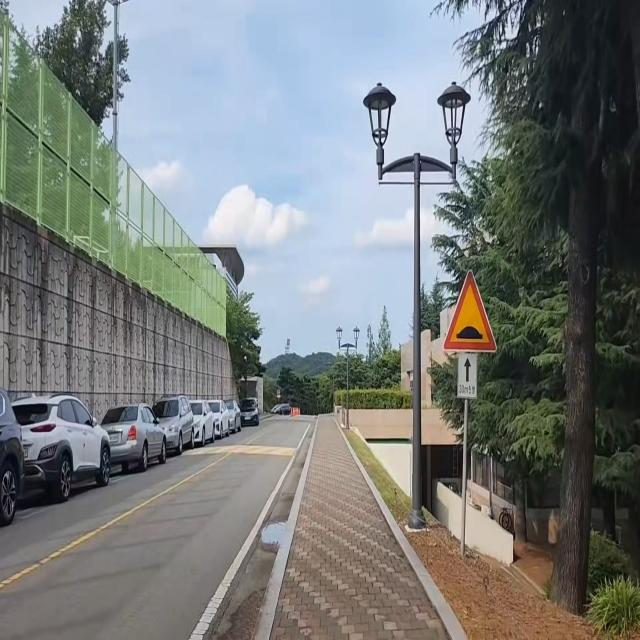road: (0, 415, 313, 640)
sidewalk: (262, 412, 476, 640)
